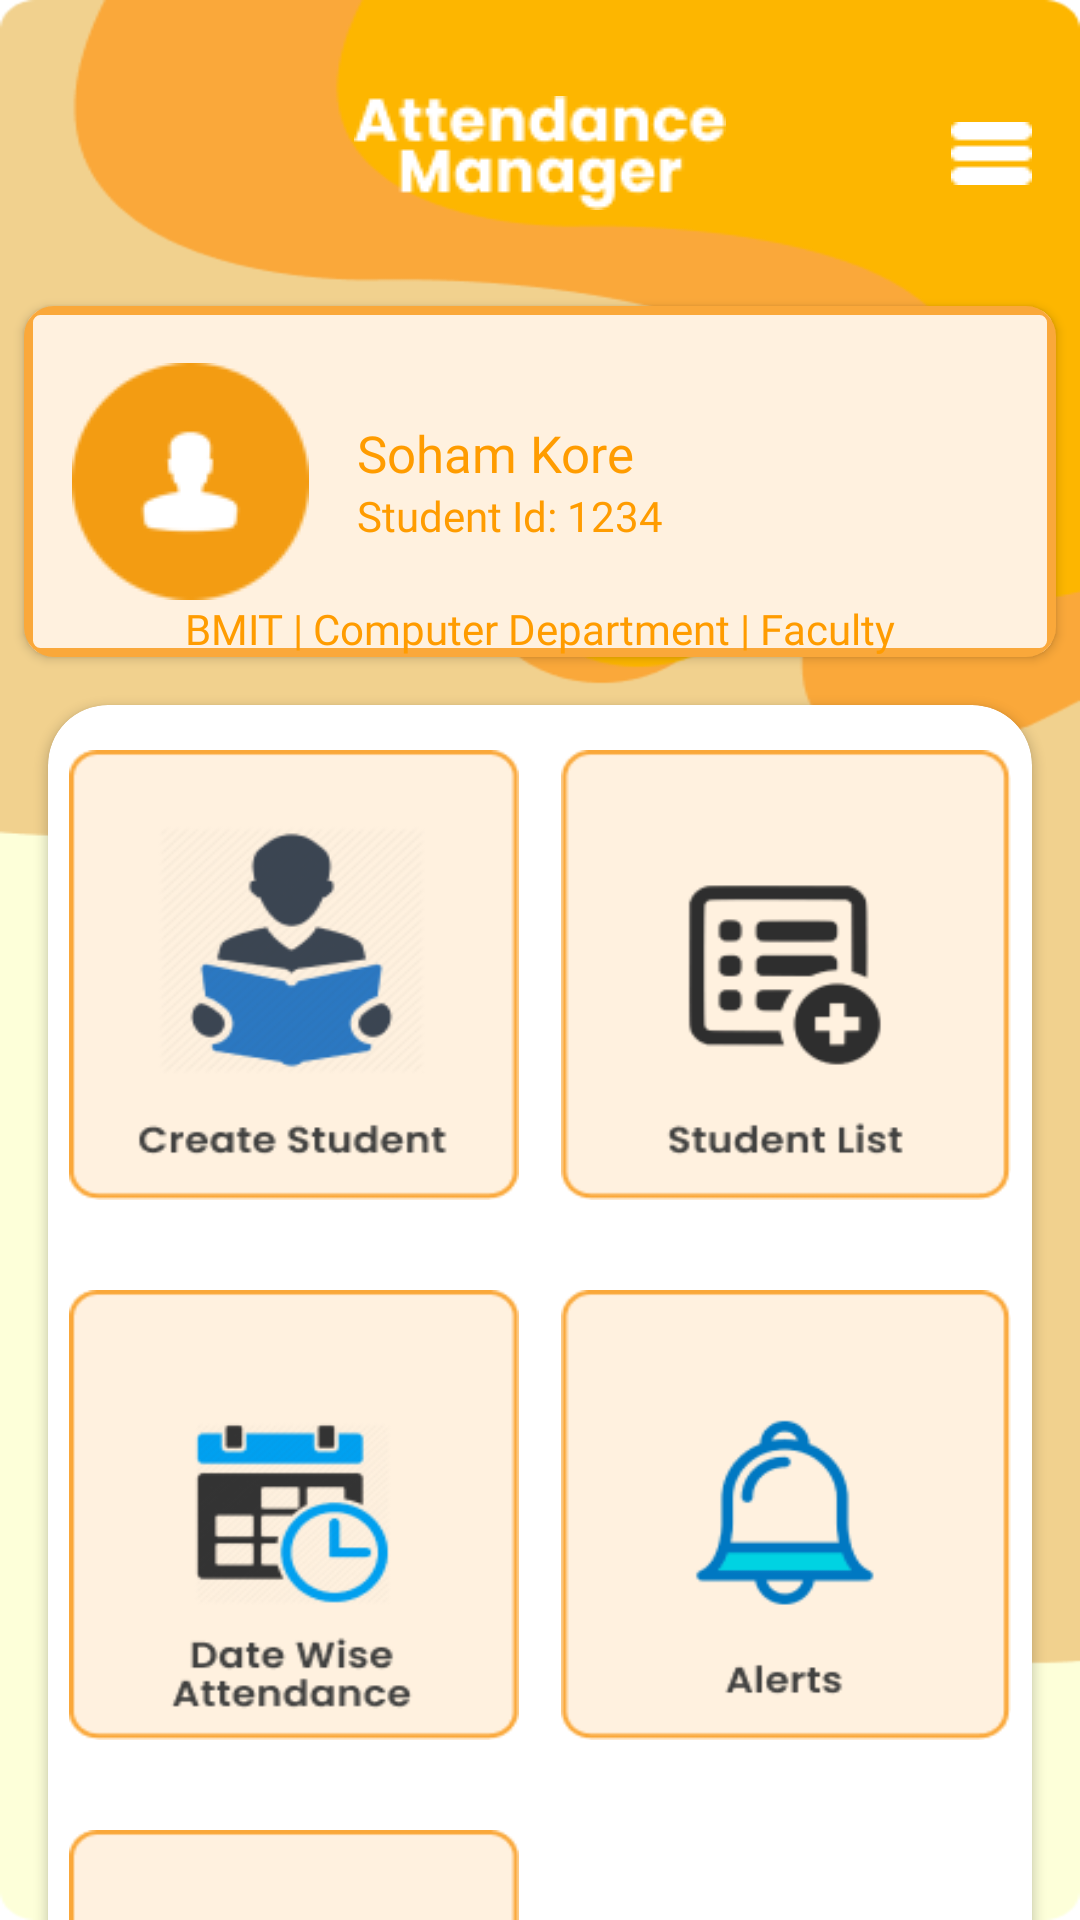

Icon bounding boxes for this 1080px×1920px phone screenshot, format (x1, y1, x2, y2):
menu: (951, 122, 1032, 185)
user: (72, 363, 309, 600)
